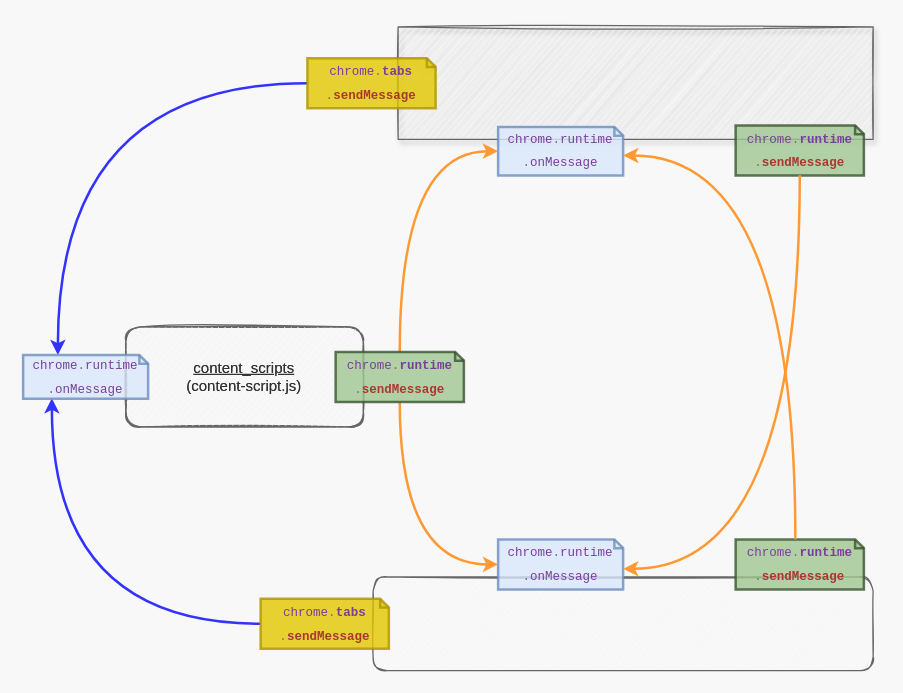
Some shapes in this 903 by 693 pixel diagram are drawn without their labels. Here are the shapes that lost their labels. From the top down, the centre of each, then its label:
(636,84): action default_popup (popup.html)
(622,623): background service_worker (background.js)
